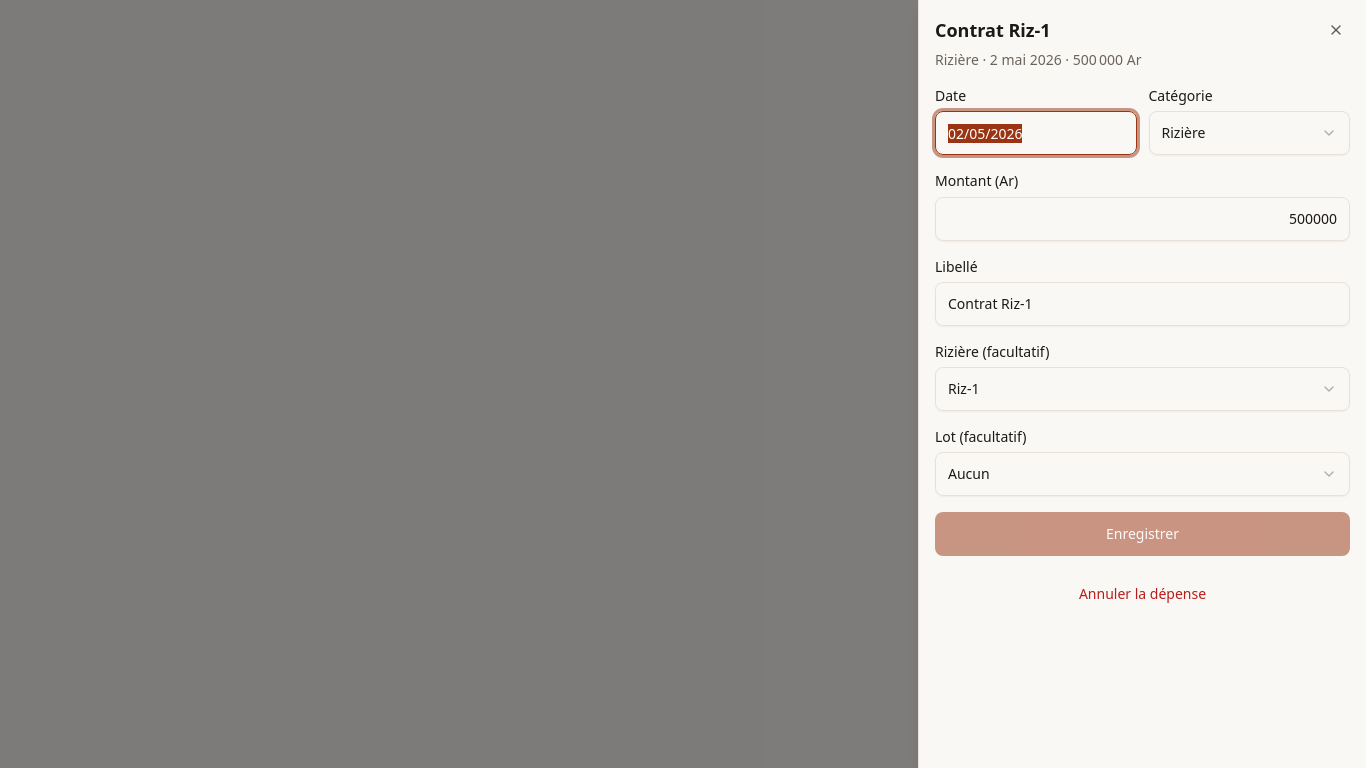
ExpensePage › corrects the amount and keeps the rice field it is attached to
The image size is (1366, 768).
Expected: the heading "Contrat Riz-1" is shown, [935,18,1051,42]
Expected: the dropdown named "Rizière (facultatif)" reads "Riz-1", [935,367,1350,411]
Replace the text in the field labelled "Montant (Ar)" with "550000". click: (1142, 218)
box: [935,196,1350,240]
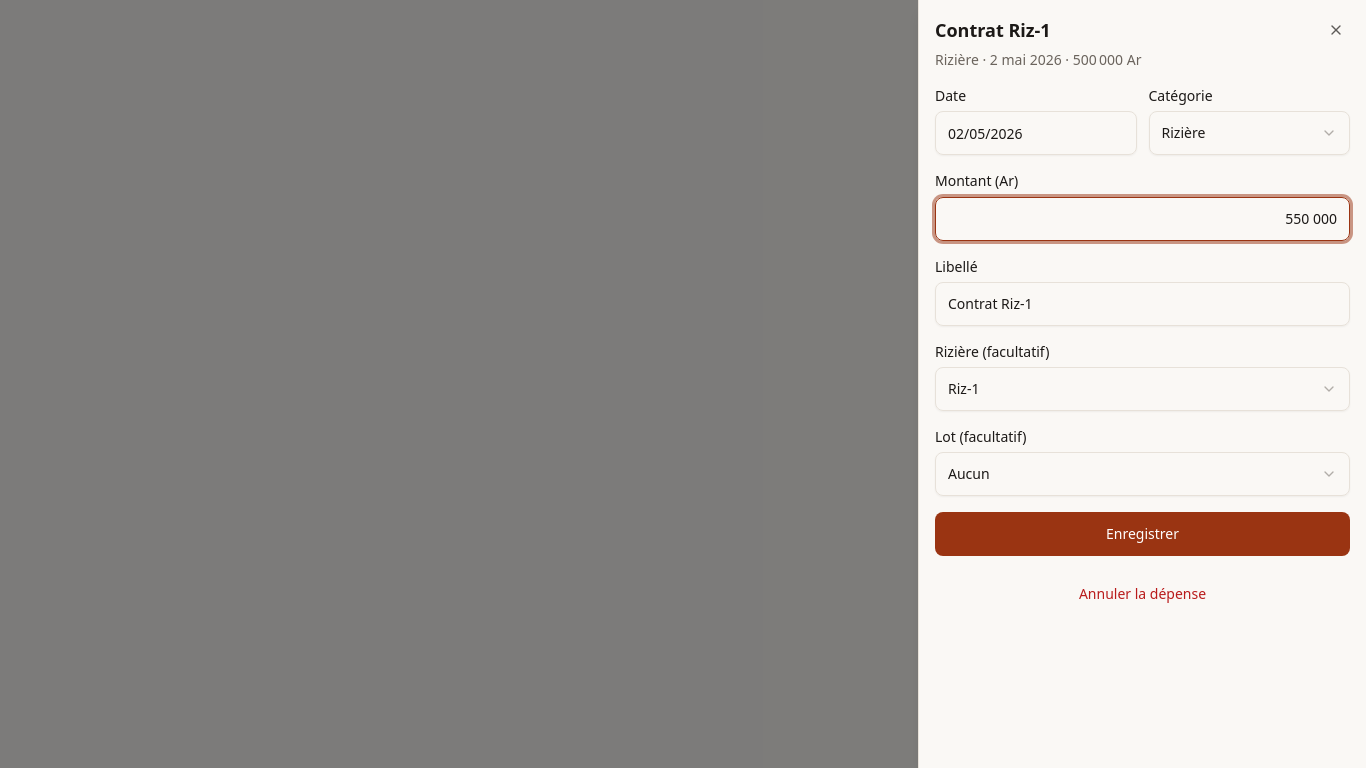
Click the button "Enregistrer". click: (1142, 534)
box: [935,512,1350,556]
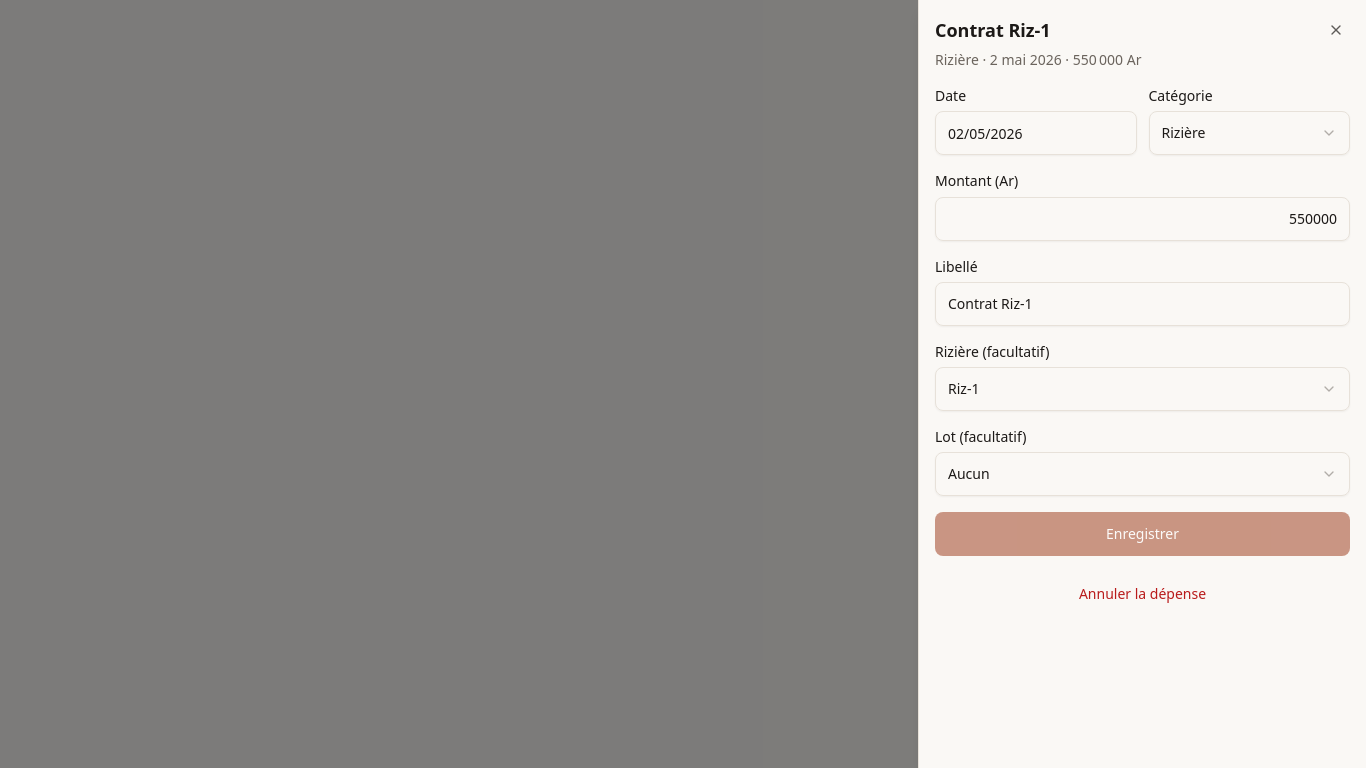
Expected: the text "Rizière · 2 mai 2026 · 550 000 Ar" is shown, [935,50,1142,69]
